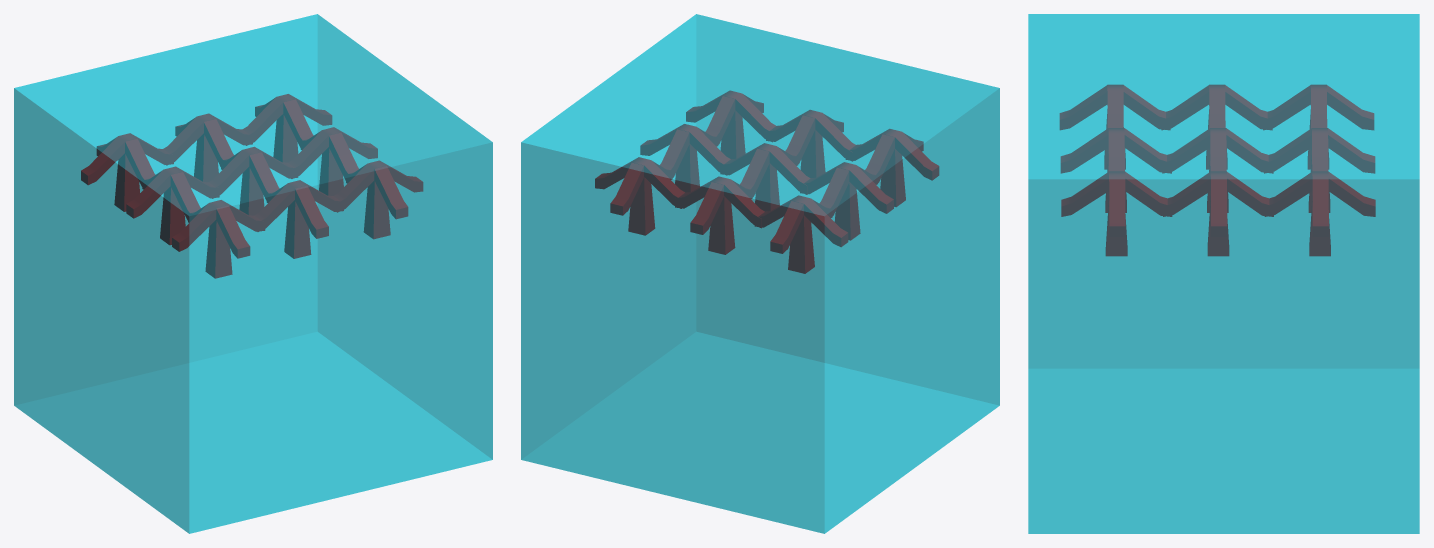
Rendered from gel.fbx.
The picture shows the model from 3 angles, left to right: view 1: azimuth 30°, elevation 25°; view 2: azimuth 150°, elevation 25°; view 3: azimuth 270°, elevation 25°; orthographic projection. The views are drawn at different scales.
Parts seen in each view (by area): view 1: polySurface38; view 2: polySurface38; view 3: polySurface38.
Part boxes in pixels (x1=…): polySurface38: x1=14, y1=14, x2=492, y2=533; polySurface38: x1=521, y1=14, x2=999, y2=533; polySurface38: x1=1028, y1=14, x2=1419, y2=533.
Bounding box in the file's own units: 2 × 2 × 2.
